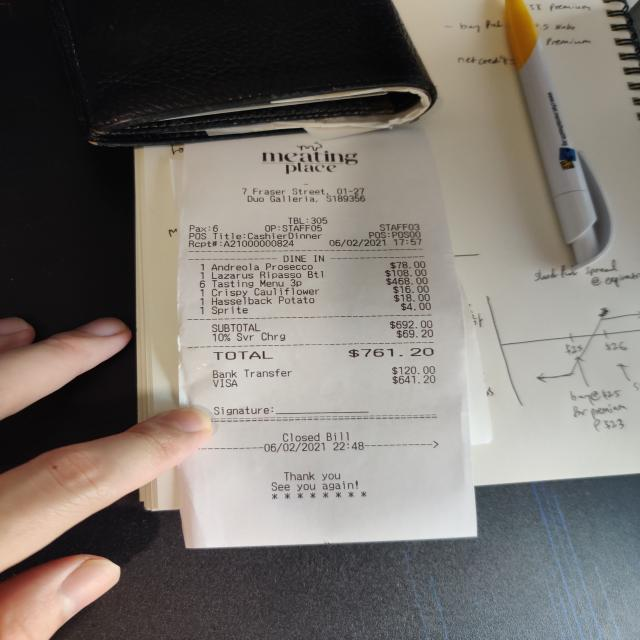bill_region: (186, 260, 444, 363)
